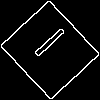I: (25, 25, 68, 66)
